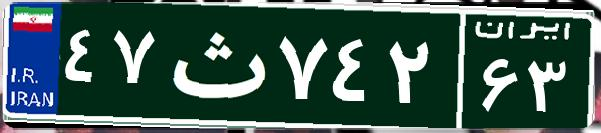2: (385, 28, 445, 110)
3: (525, 38, 570, 115)
4: (330, 28, 385, 110), (57, 26, 110, 107)
6: (475, 38, 525, 113)
7: (273, 28, 330, 110), (110, 28, 158, 105)
ث: (158, 15, 273, 115)
